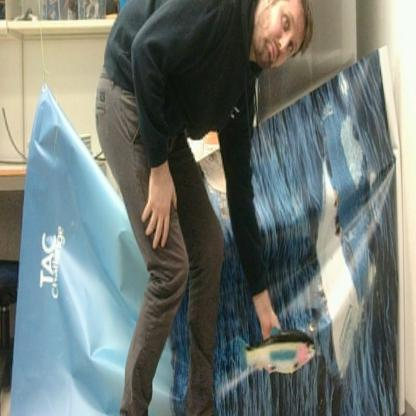rubberfish: (236, 324, 318, 384)
